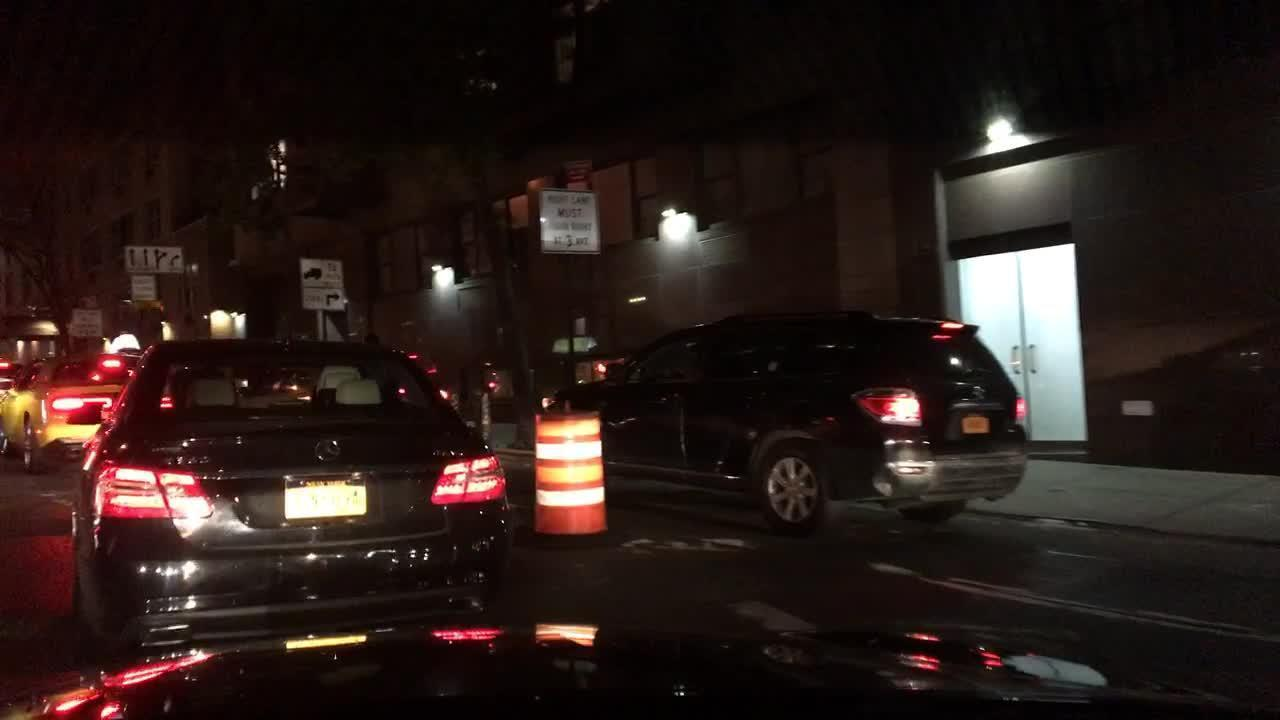Mercedes: (309, 432, 345, 467)
